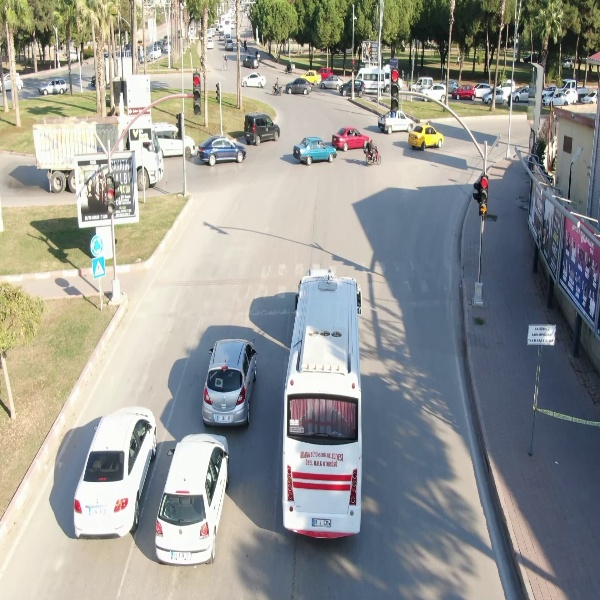car: (281, 266, 363, 540), (71, 403, 158, 548), (153, 430, 230, 570), (201, 337, 259, 427), (196, 135, 249, 168), (291, 135, 338, 169), (243, 111, 281, 145), (406, 121, 445, 151), (37, 75, 71, 96), (283, 77, 314, 97), (240, 70, 267, 90), (338, 78, 365, 98), (451, 82, 477, 101), (243, 54, 261, 72)
